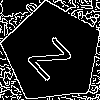Z: (27, 28, 80, 82)
